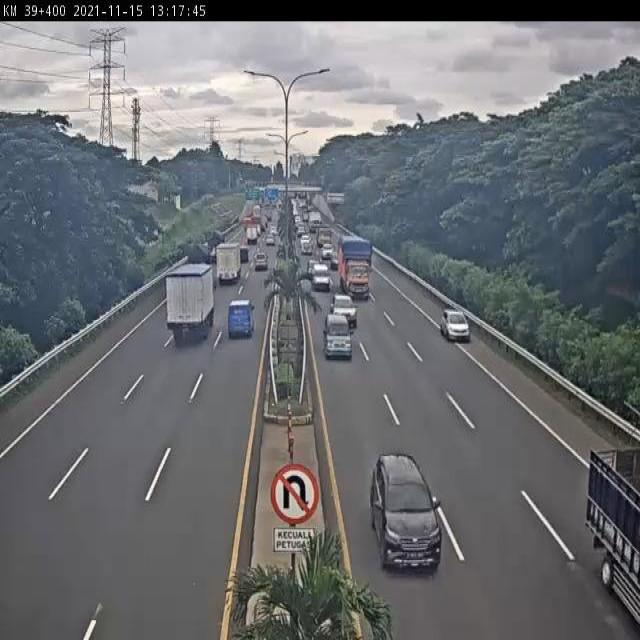bus-s-: (226, 299, 255, 341), (312, 263, 331, 289)
car: (369, 449, 444, 575), (322, 312, 353, 360), (438, 304, 472, 343), (330, 294, 358, 329), (253, 251, 270, 272)
truck-m-: (165, 265, 216, 343), (337, 233, 371, 303), (215, 241, 244, 287)
